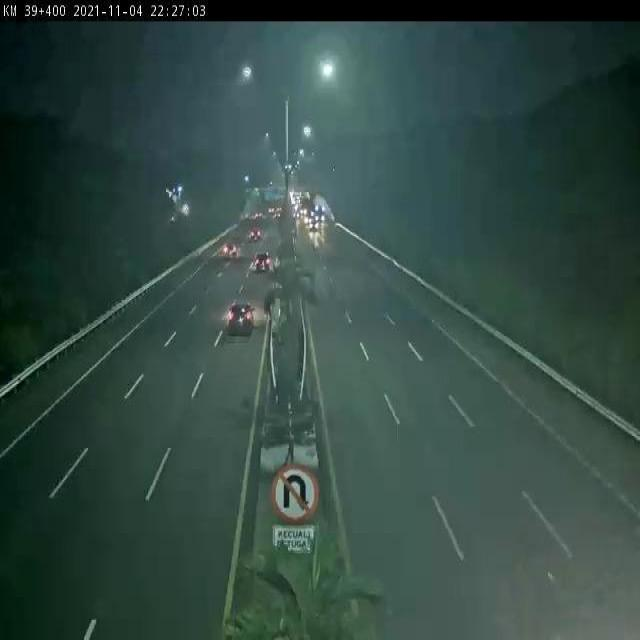car: (226, 300, 257, 333), (255, 251, 272, 272)
